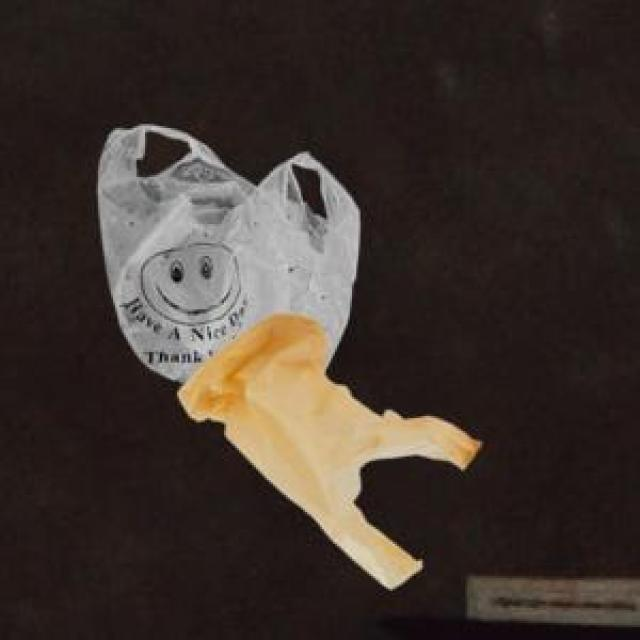plastic: (52, 98, 536, 610)
